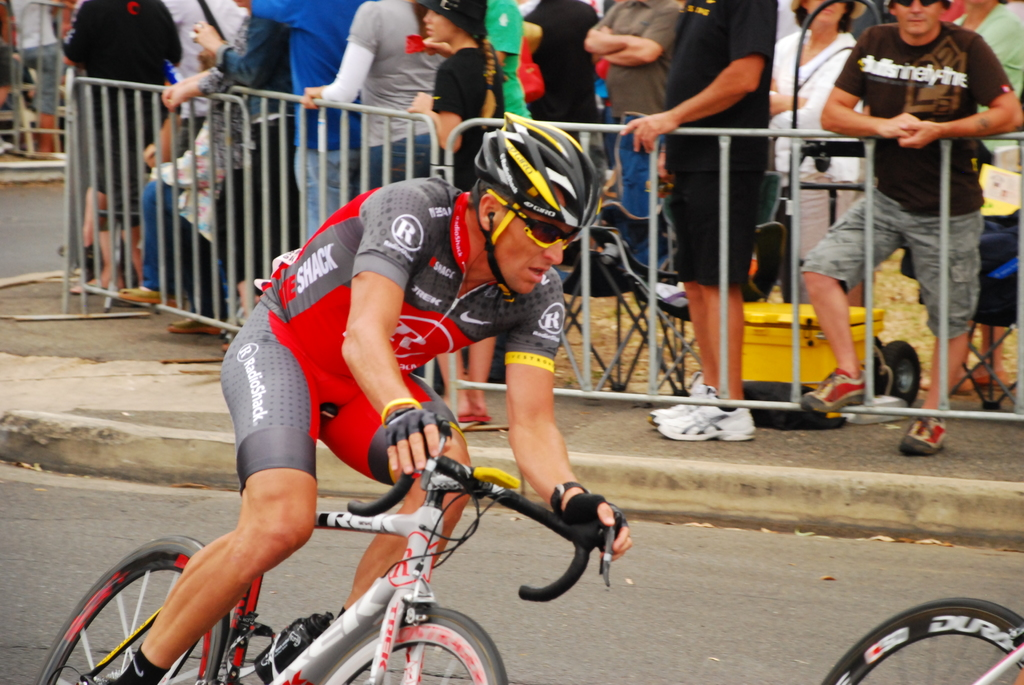Bike: (64, 439, 516, 685)
